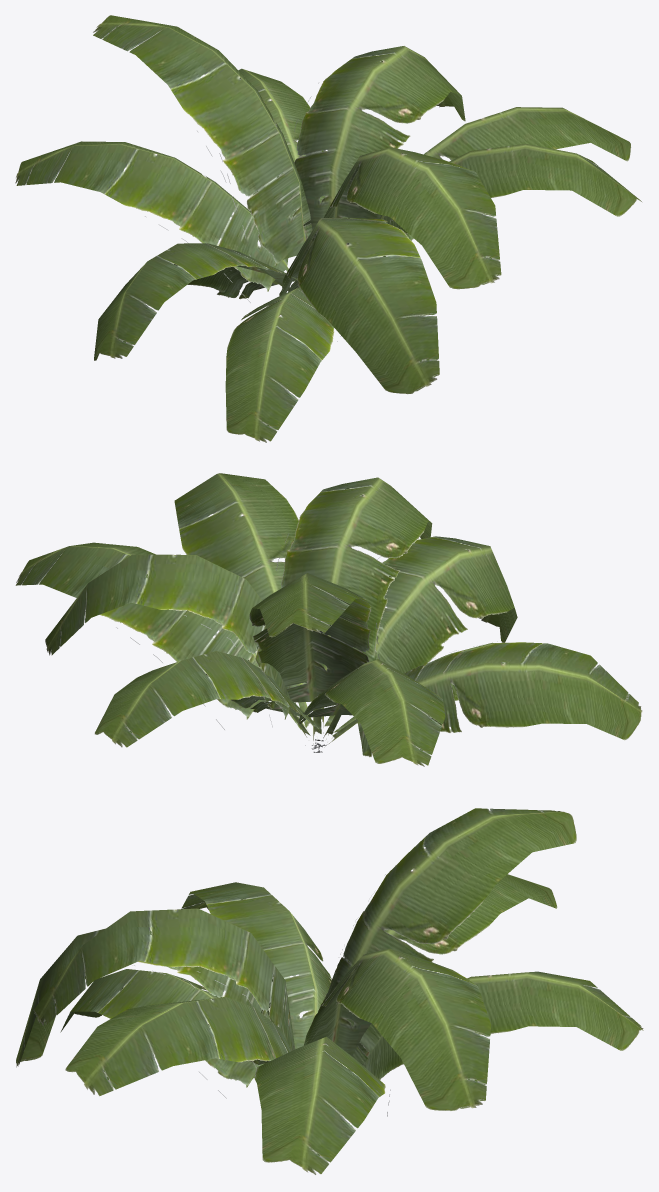
File: SM_Veg_BanannaPalm_01.FBX
3 views of the same model, one above another, from view 1: azimuth 30°, elevation 25°; view 2: azimuth 150°, elevation 25°; view 3: azimuth 270°, elevation 25° (orthographic). The views are drawn at different scales.
Visible parts, largest first — view 1: SM_Veg_BanannaPalm_01; view 2: SM_Veg_BanannaPalm_01; view 3: SM_Veg_BanannaPalm_01.
Part boxes in pixels (x1,y1,x2,y2): SM_Veg_BanannaPalm_01: [15, 15, 642, 442]; SM_Veg_BanannaPalm_01: [15, 473, 642, 766]; SM_Veg_BanannaPalm_01: [16, 808, 643, 1174].
Size of the model in its own units: 2.58 by 1.07 by 2.25.
